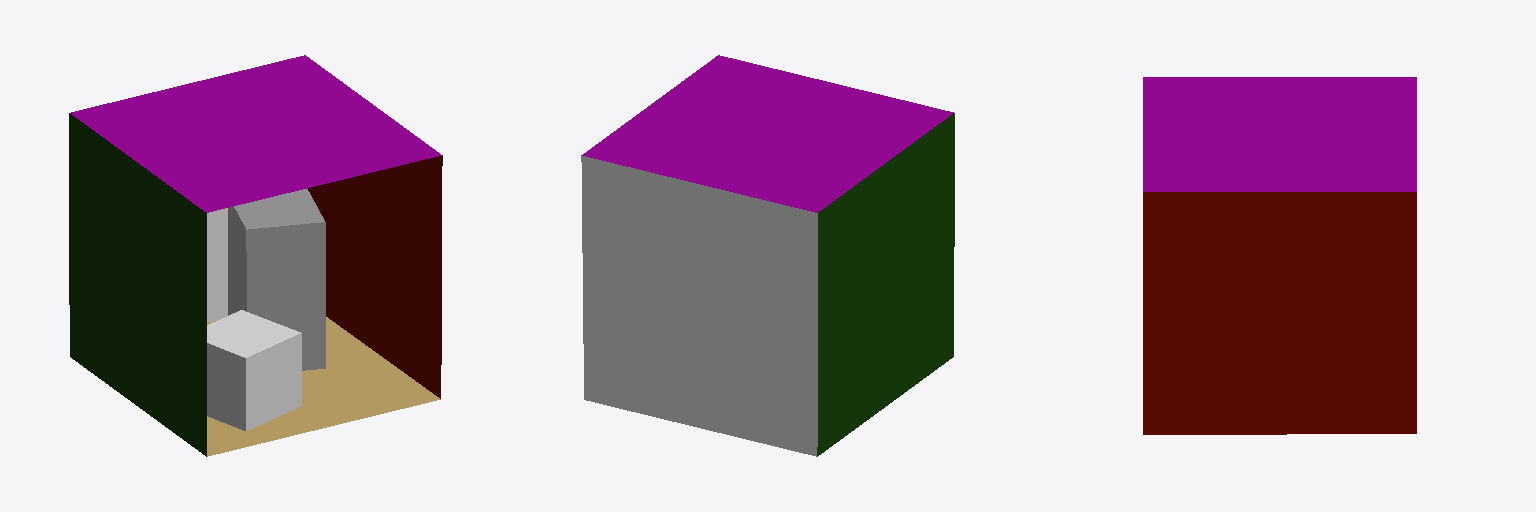
File: cornellbox-demo.obj
The picture shows the model from 3 angles: view 1: azimuth 30°, elevation 25°; view 2: azimuth 150°, elevation 25°; view 3: azimuth 270°, elevation 25°; orthographic projection.
Size of the model in its own units: 0.7808 by 0.7709 by 0.7855.